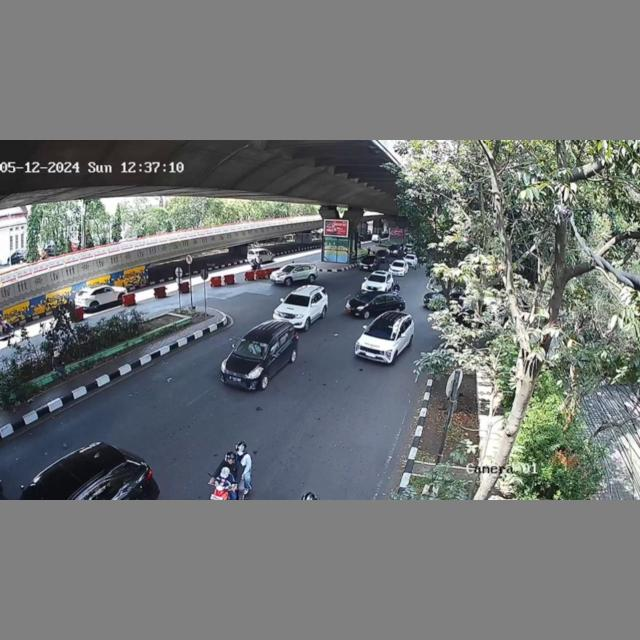windshield: (231, 338, 269, 361), (281, 290, 311, 310)
